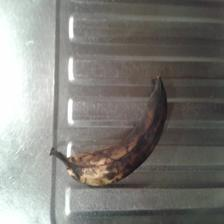Banana Rotten: (111, 74, 176, 176), (34, 130, 50, 153)
